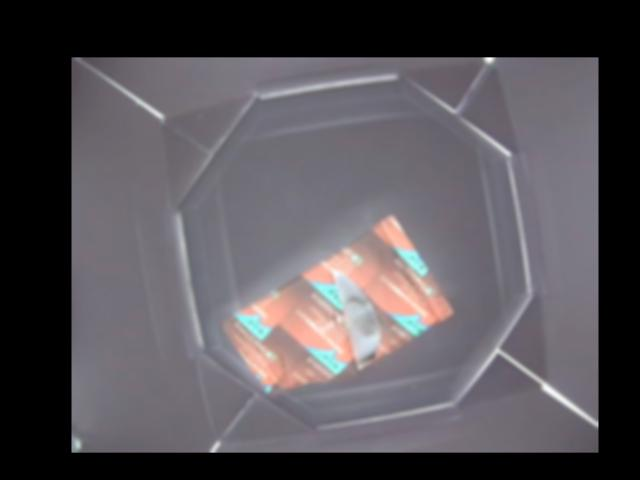Medicine: (228, 213, 455, 393)
